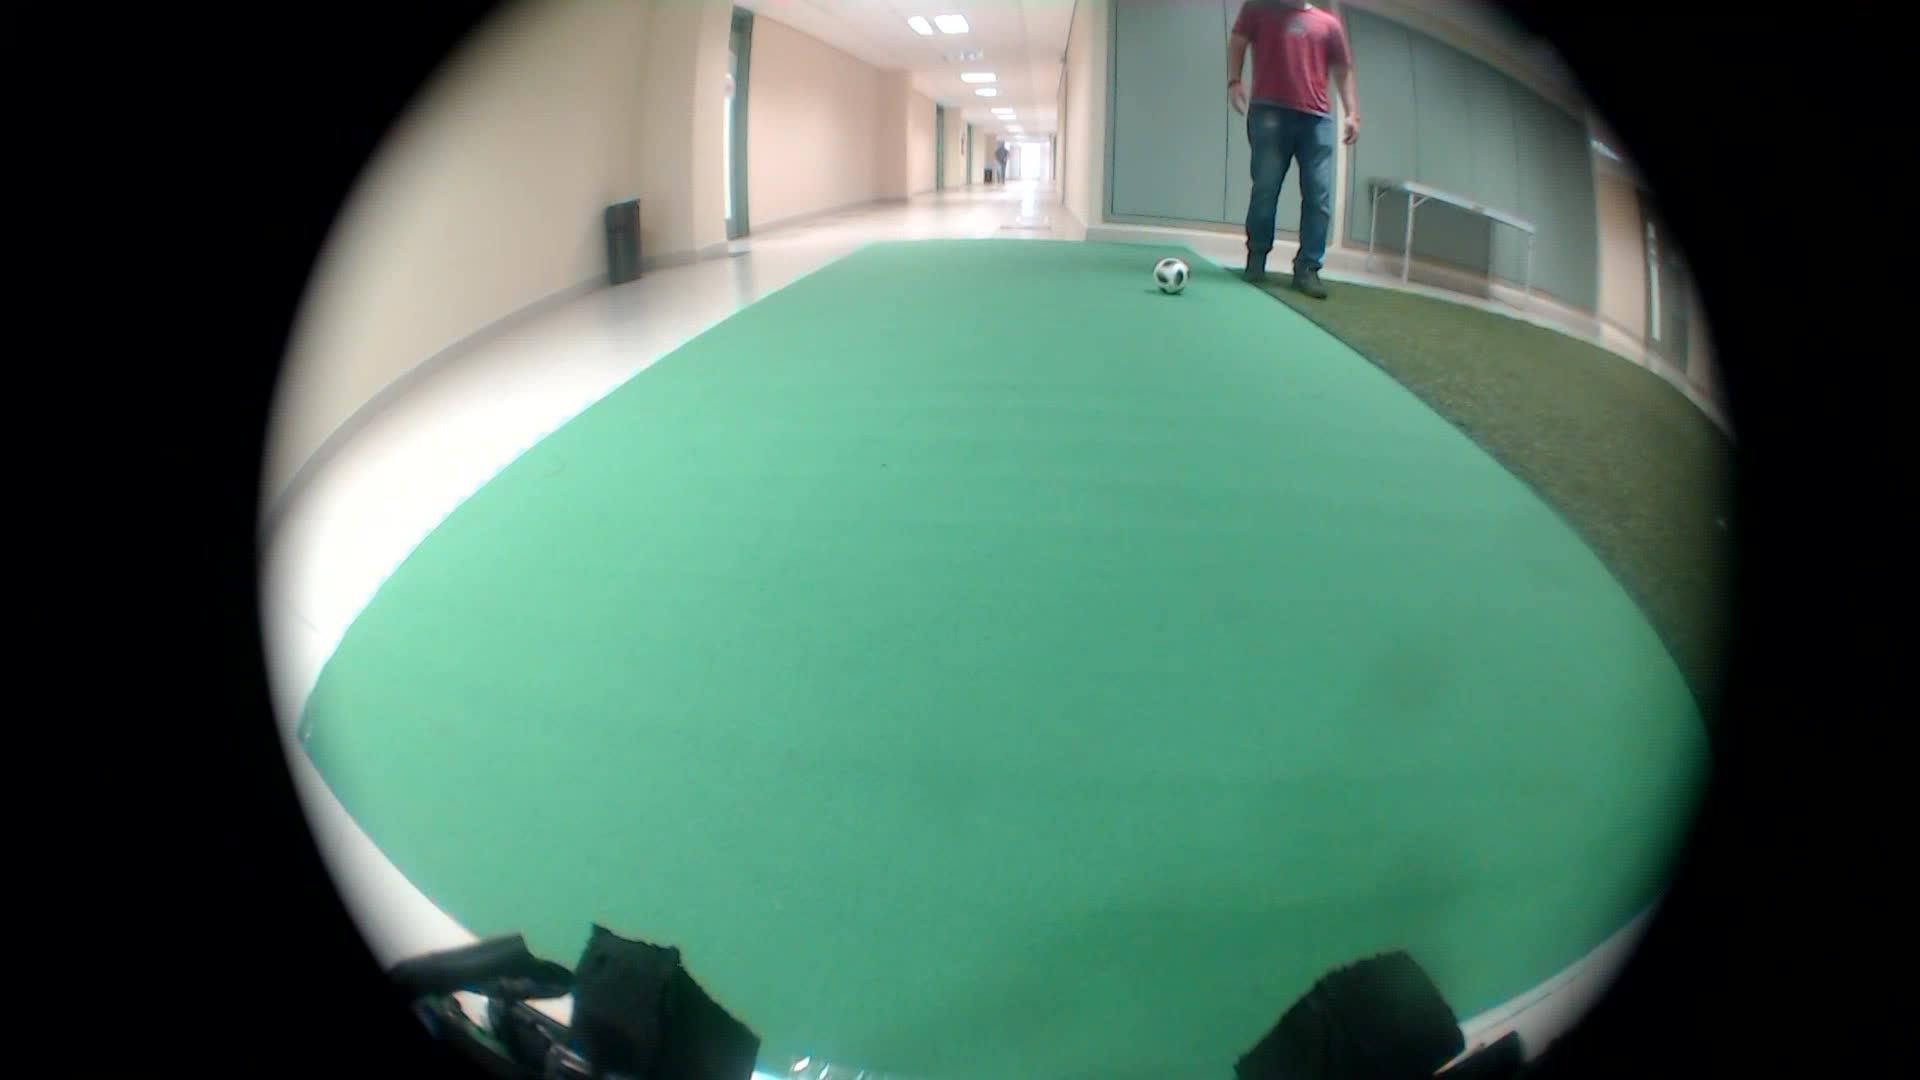ball: (1147, 249, 1192, 295)
